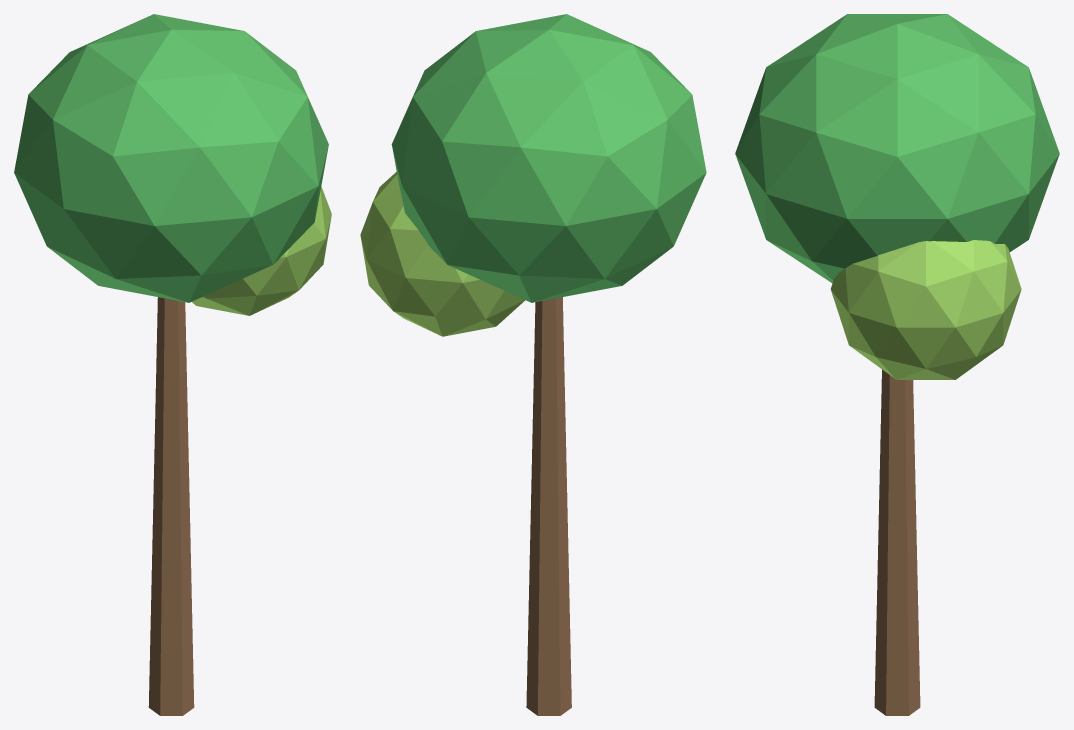
Rendered from Tree_02_Tall.fbx.
The picture shows the model from 3 angles, left to right: view 1: azimuth 30°, elevation 25°; view 2: azimuth 150°, elevation 25°; view 3: azimuth 270°, elevation 25°; orthographic projection.
Visible parts, largest first — view 1: Tree_02_Tall; view 2: Tree_02_Tall; view 3: Tree_02_Tall.
Part boxes in pixels (x1,y1,x2,y2): Tree_02_Tall: (14, 14, 331, 715); Tree_02_Tall: (360, 14, 706, 715); Tree_02_Tall: (735, 14, 1059, 715).
Size of the model in its own units: 3.57 by 7.9 by 3.4.
